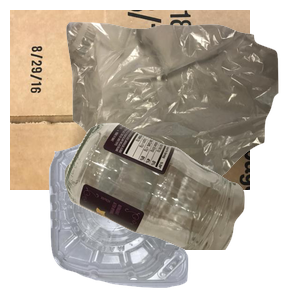cardboard: (10, 10, 250, 190)
glass: (62, 120, 300, 300)
plastic: (46, 130, 227, 300)
trash: (64, 20, 300, 200)
